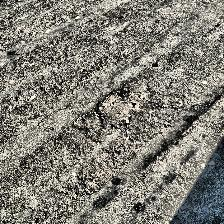pothole: (93, 87, 143, 131)
